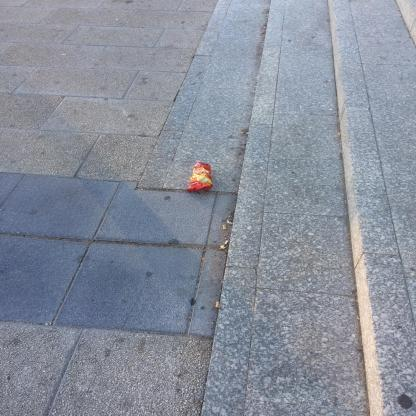Plastic: (186, 161, 213, 192)
Waste: (215, 302, 220, 308), (222, 225, 226, 230), (224, 241, 228, 245), (338, 133, 341, 136), (260, 32, 263, 34), (326, 81, 331, 82), (116, 19, 118, 21), (264, 27, 265, 29)
